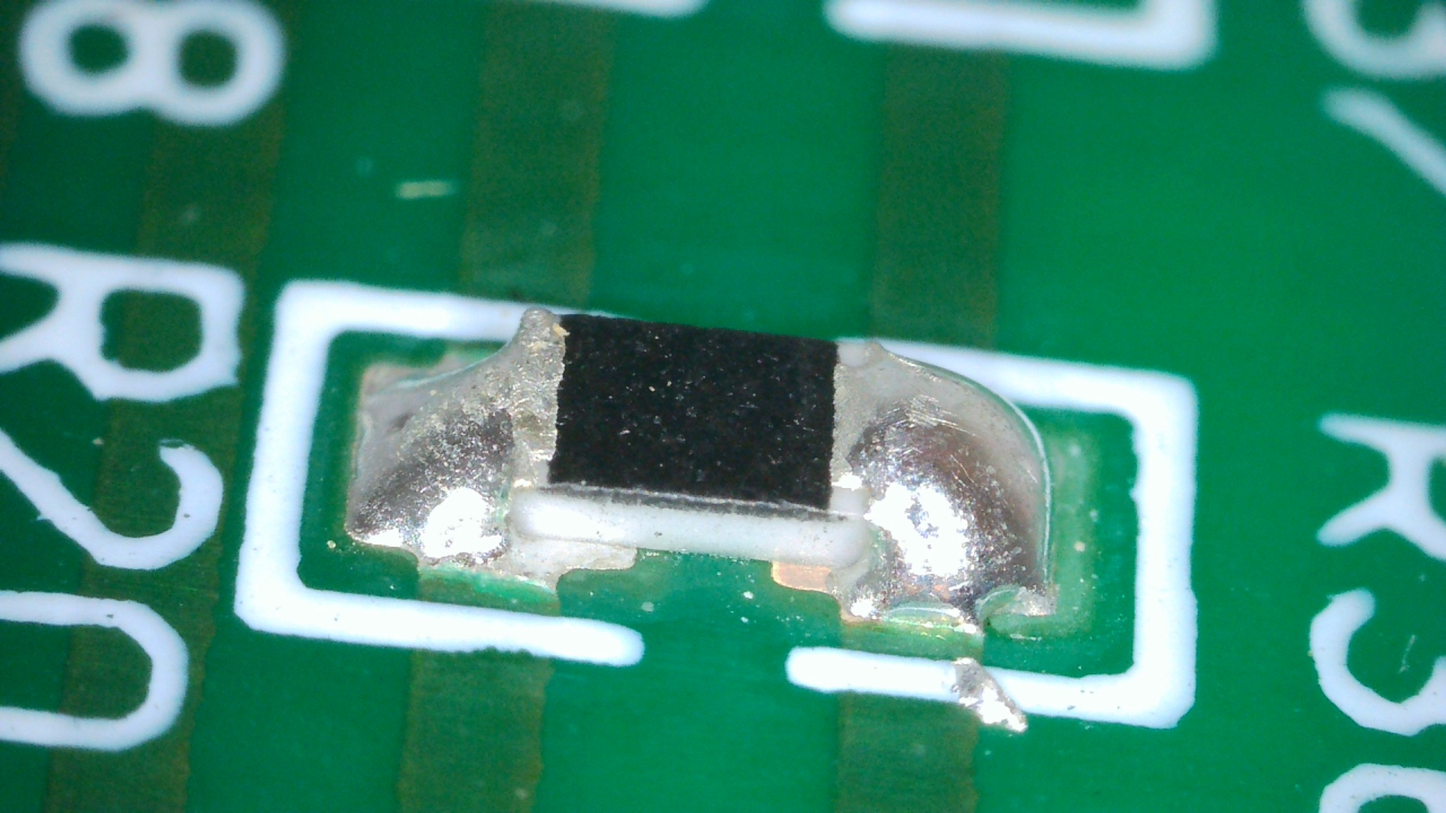NG: (827, 343, 1051, 623)
OK: (345, 311, 562, 574)
